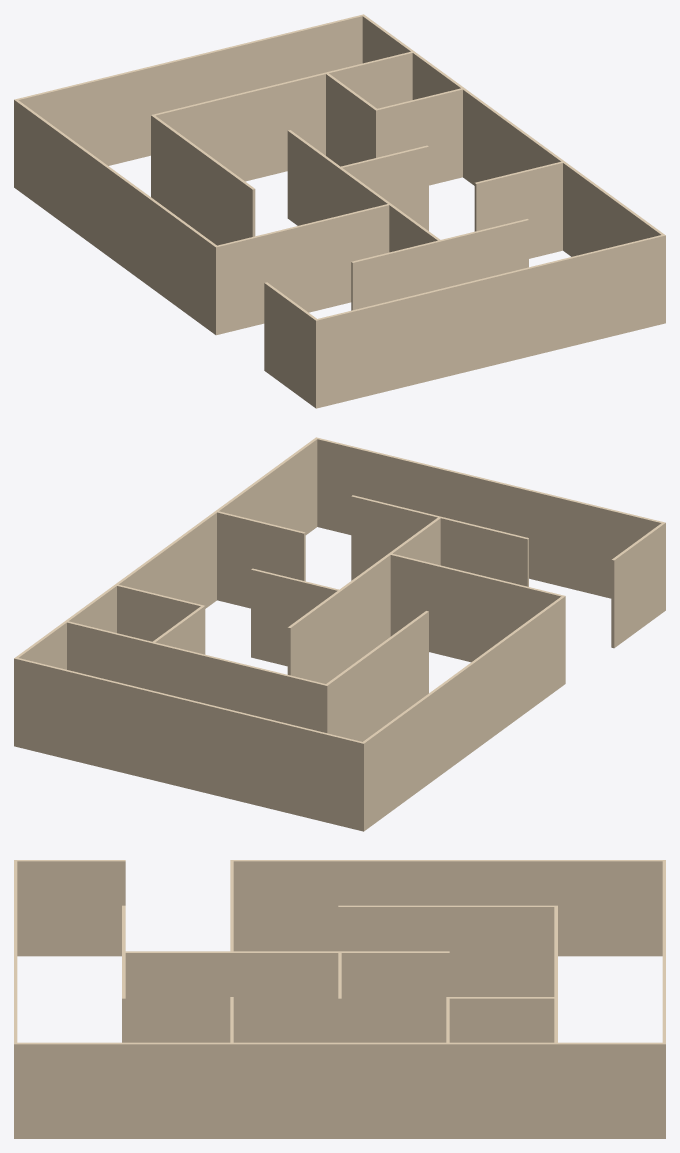
The picture shows the model from 3 angles, top to bottom: view 1: azimuth 30°, elevation 25°; view 2: azimuth 150°, elevation 25°; view 3: azimuth 270°, elevation 25°; orthographic projection. The views are drawn at different scales.
Visible parts, largest first — view 1: group_0; view 2: group_0; view 3: group_0.
Part boxes in pixels (bbox=[...]): group_0: bbox=[14, 14, 665, 408]; group_0: bbox=[14, 437, 665, 831]; group_0: bbox=[14, 860, 665, 1138].
Bounding box in the file's own units: 1.25 × 1.87 × 0.3.
